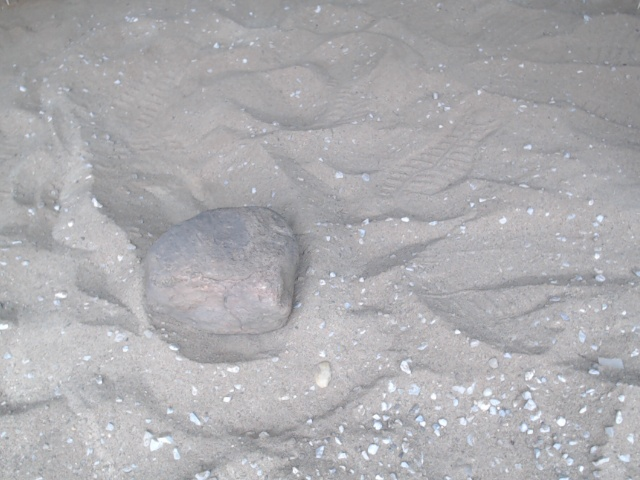rock: (133, 197, 310, 342)
